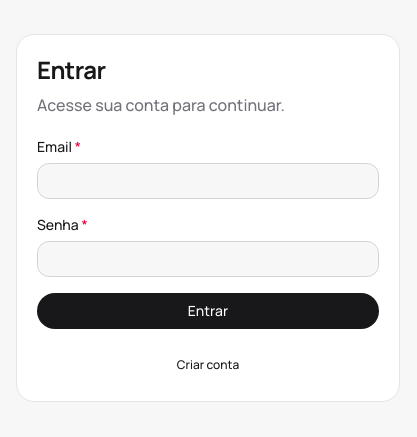
it: LoginPage › shows a generic error for invalid credentials (401) and keeps the email filled in
Type "owner@example.com" into the field labelled "Email *".
click(208, 181); type("owner@example.com")  # box top-left (37, 163), bottom-right (379, 199)
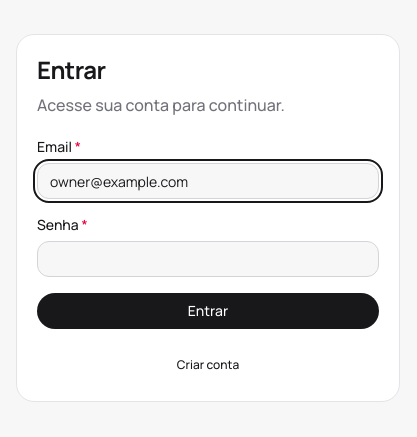
Type "wrong-password" into the password field labelled "Senha *".
click(208, 259); type("wrong-password")  # box top-left (37, 241), bottom-right (379, 277)
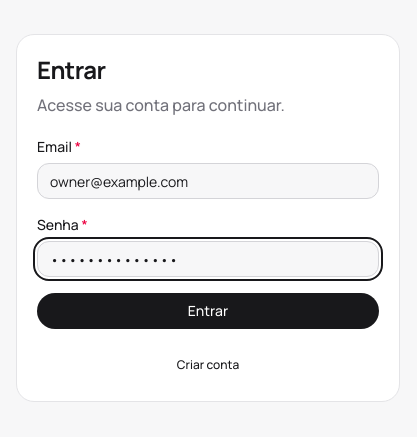
Click the button "Entrar".
click(208, 311)  # box top-left (37, 293), bottom-right (379, 329)
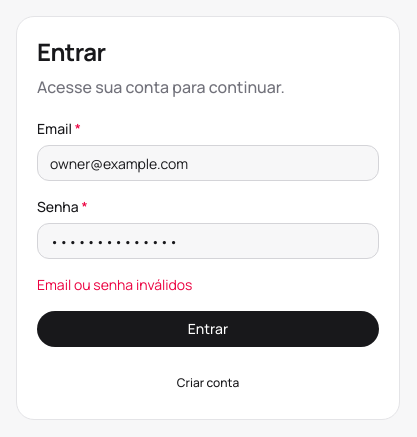
Expected: the message reads "Email ou senha inválidos", top-left (37, 275), bottom-right (192, 294)
